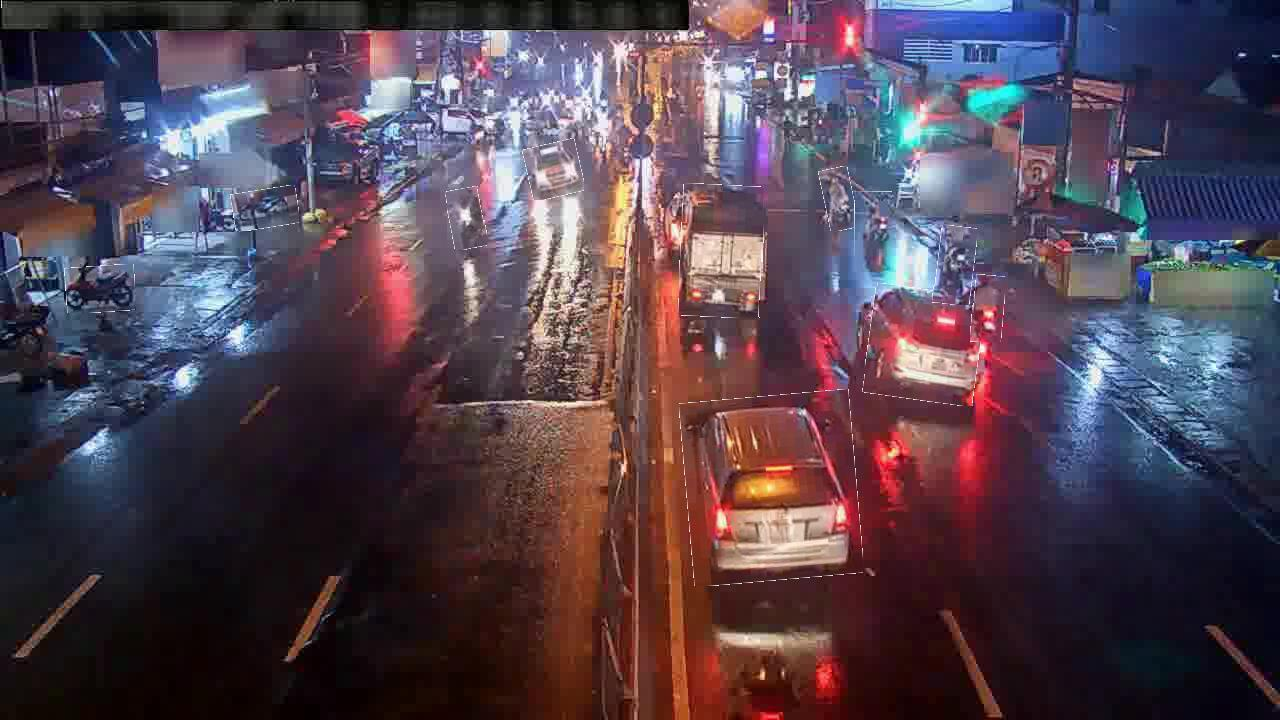8: (680, 184, 764, 318)
container: (683, 392, 861, 584), (866, 286, 984, 404), (525, 141, 583, 199)
motorbike: (65, 265, 136, 313), (936, 226, 976, 306), (855, 191, 893, 270), (232, 188, 299, 230), (448, 188, 486, 250), (821, 167, 856, 231), (973, 275, 1005, 343)
